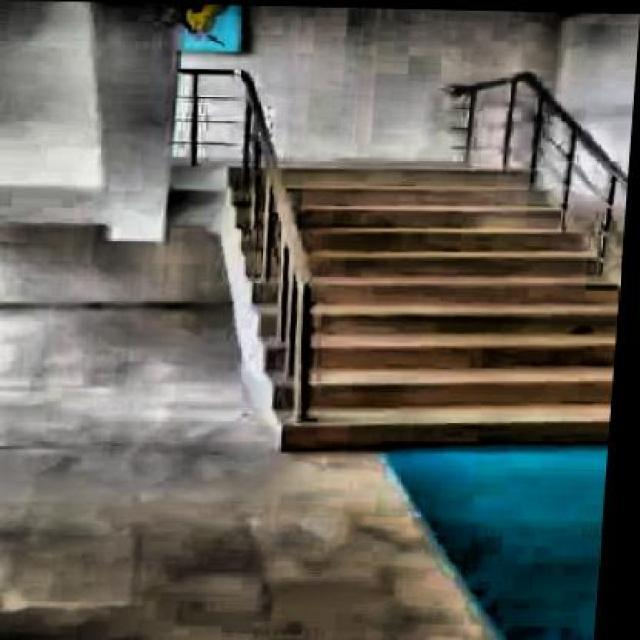stair: (200, 160, 629, 457)
